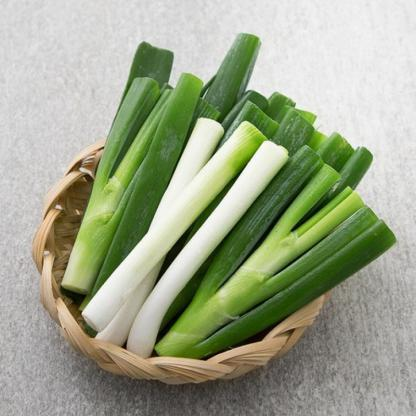green onion: (144, 152, 393, 361), (80, 88, 280, 330), (53, 53, 171, 296)
